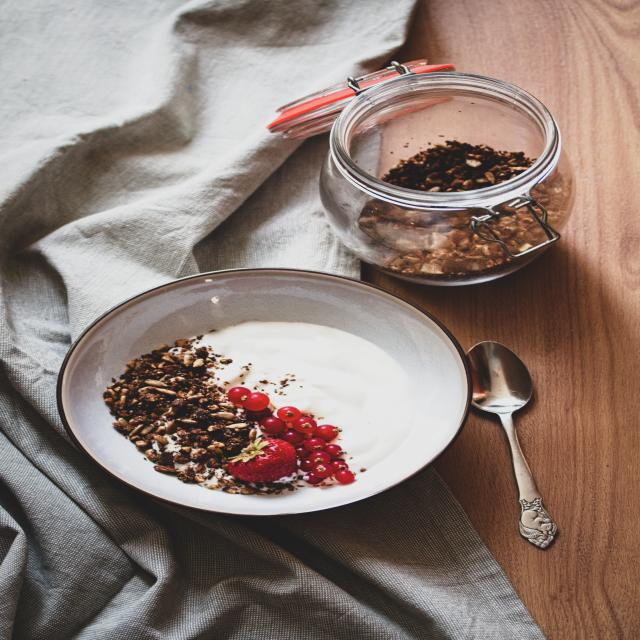Dish: (78, 268, 478, 528)
